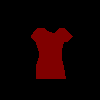t-shirt: (30, 27, 72, 78)
